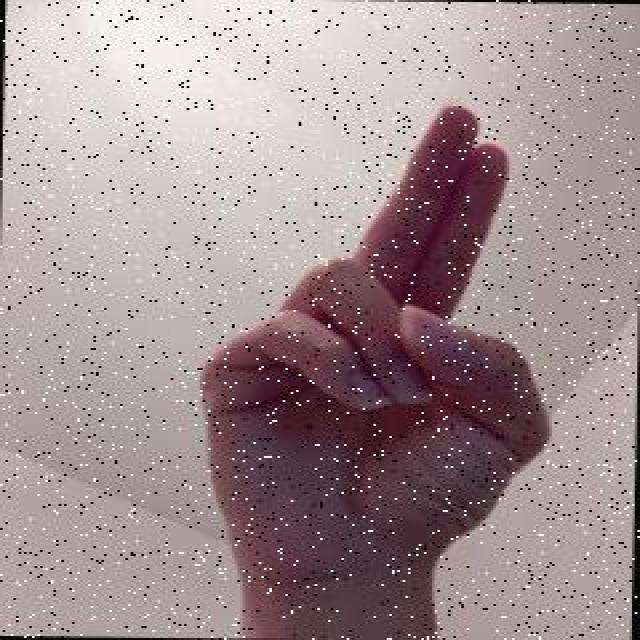U: (128, 76, 613, 614)
